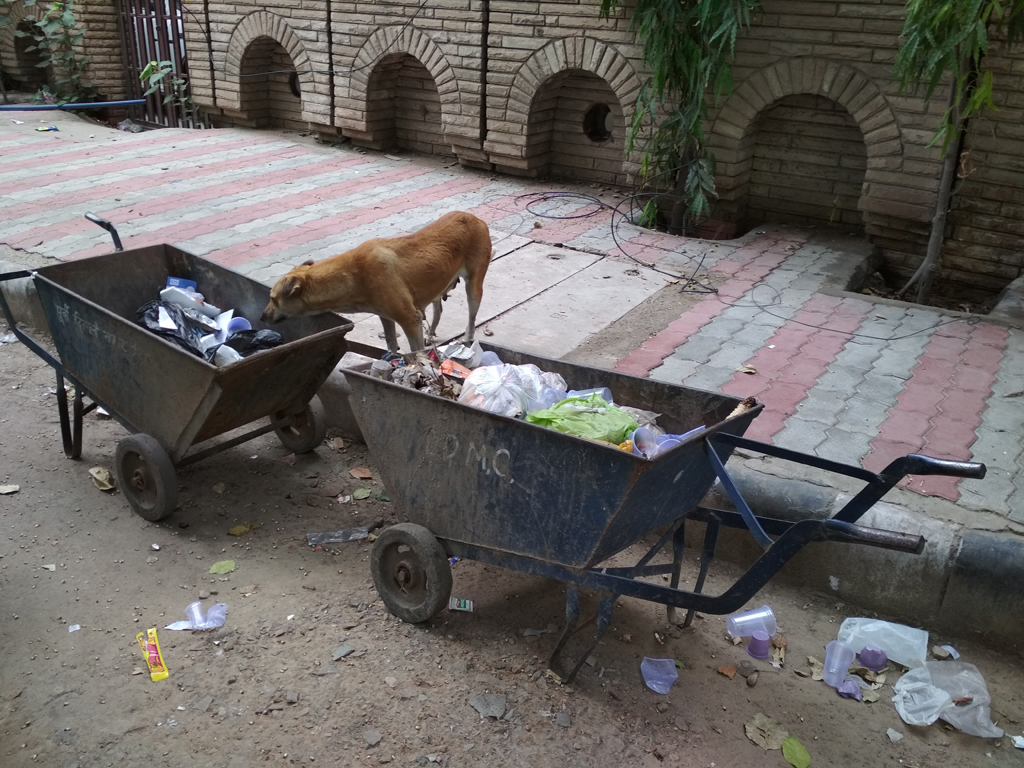dog: (260, 212, 498, 359)
